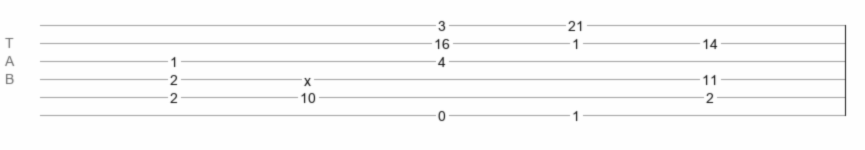0: (438, 108, 446, 118)
1: (170, 54, 178, 64), (572, 36, 580, 46), (572, 108, 580, 118)
10: (300, 90, 316, 100)
11: (702, 72, 718, 82)
14: (702, 36, 718, 46)
16: (434, 36, 450, 46)
2: (170, 72, 178, 82), (170, 90, 178, 100), (706, 90, 714, 100)
21: (568, 18, 584, 28)
3: (438, 18, 446, 28)
4: (438, 54, 446, 64)
x: (304, 73, 311, 81)
